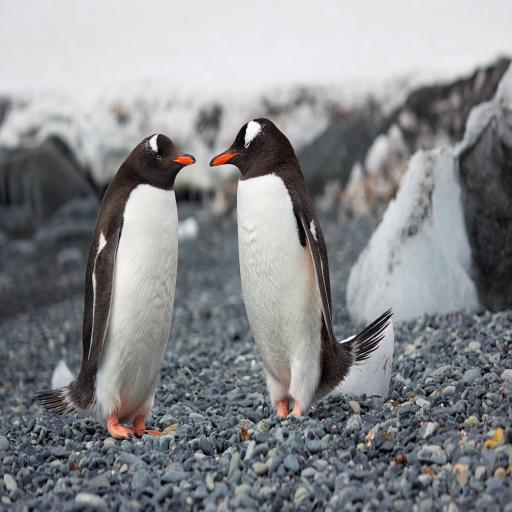penguins: (210, 118, 392, 416), (44, 134, 195, 439)
